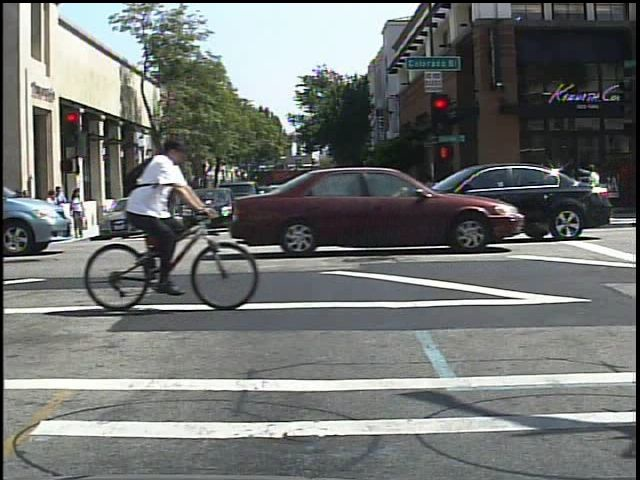person: (127, 125, 207, 303), (585, 159, 612, 224)
